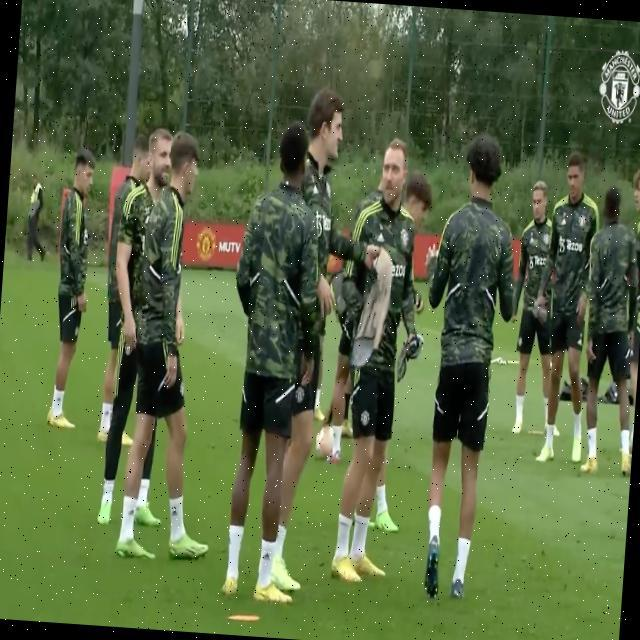Adidas: (261, 549, 272, 565), (171, 506, 180, 520), (377, 230, 386, 244)
